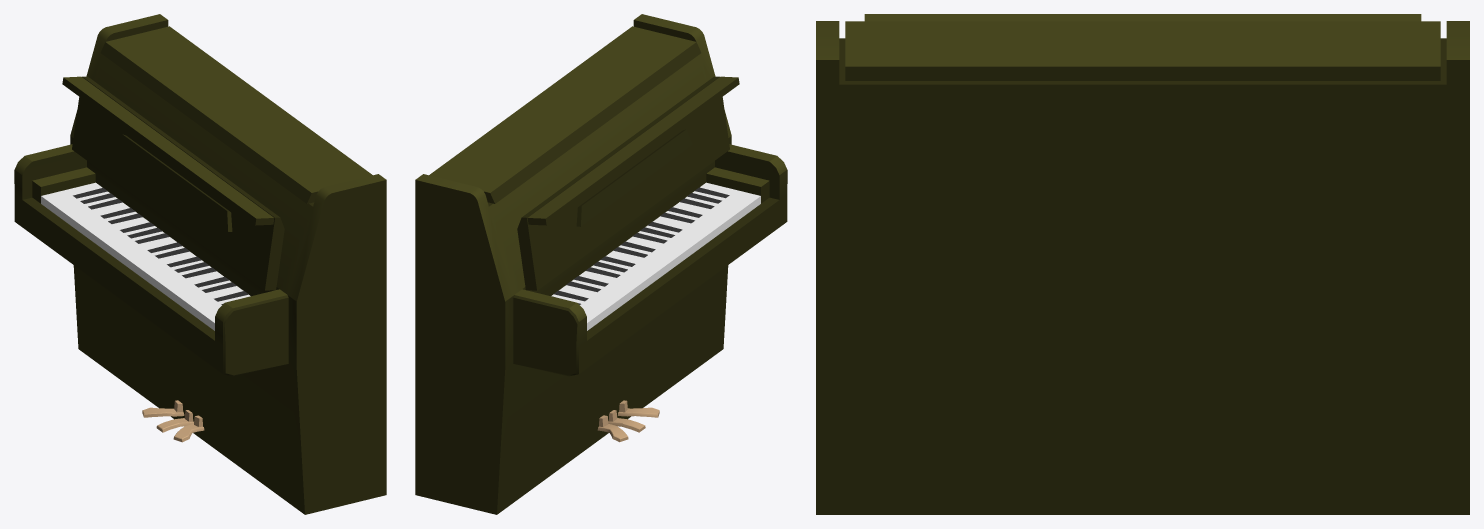
Rendered from Prop_Piano.FBX.
3 views of the same model, side by side, from view 1: azimuth 30°, elevation 25°; view 2: azimuth 150°, elevation 25°; view 3: azimuth 270°, elevation 25° (orthographic). The views are drawn at different scales.
Visible parts, largest first — view 1: Prop_Piano; view 2: Prop_Piano; view 3: Prop_Piano.
Part boxes in pixels (left/top/right/bottom): Prop_Piano: left=14, top=14, right=386, bottom=514; Prop_Piano: left=415, top=14, right=787, bottom=514; Prop_Piano: left=816, top=14, right=1469, bottom=514.
Bounding box in the file's own units: 44.67 × 87.03 × 113.
Materials: 1 (1 with a texture image).
